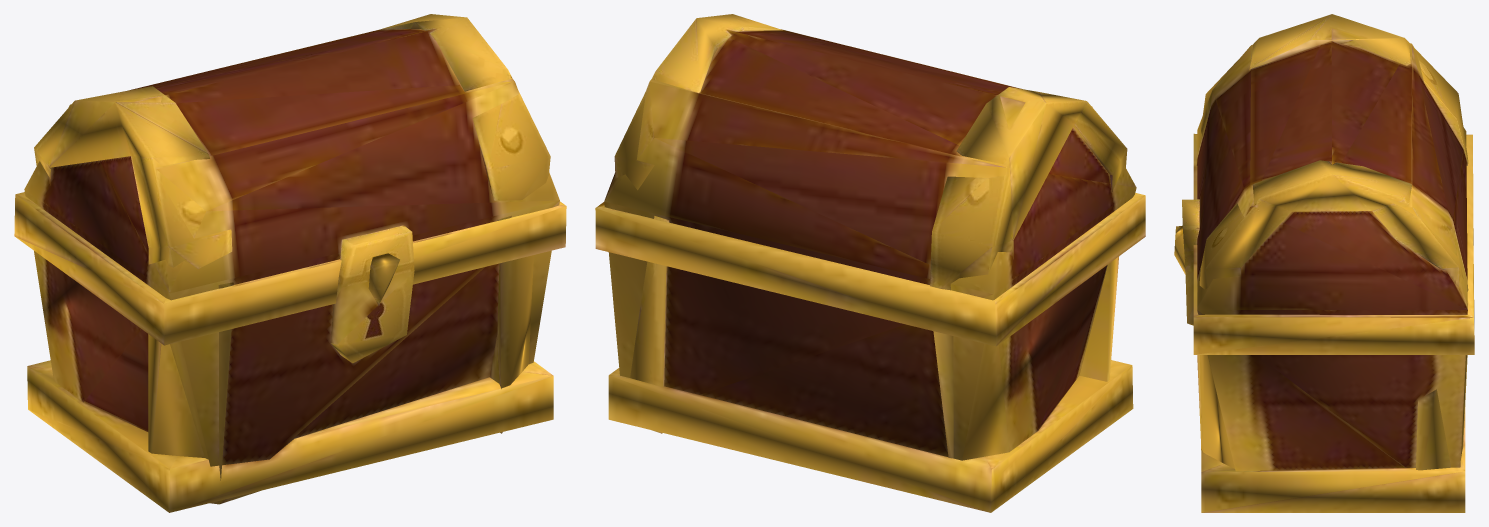
The model's file is chest.glb.
3 views of the same model, side by side, from view 1: azimuth 30°, elevation 25°; view 2: azimuth 150°, elevation 25°; view 3: azimuth 270°, elevation 25° (orthographic). The views are drawn at different scales.
Size of the model in its own units: 2 by 1.71 by 1.39.
Materials: 1 (1 with a texture image).
